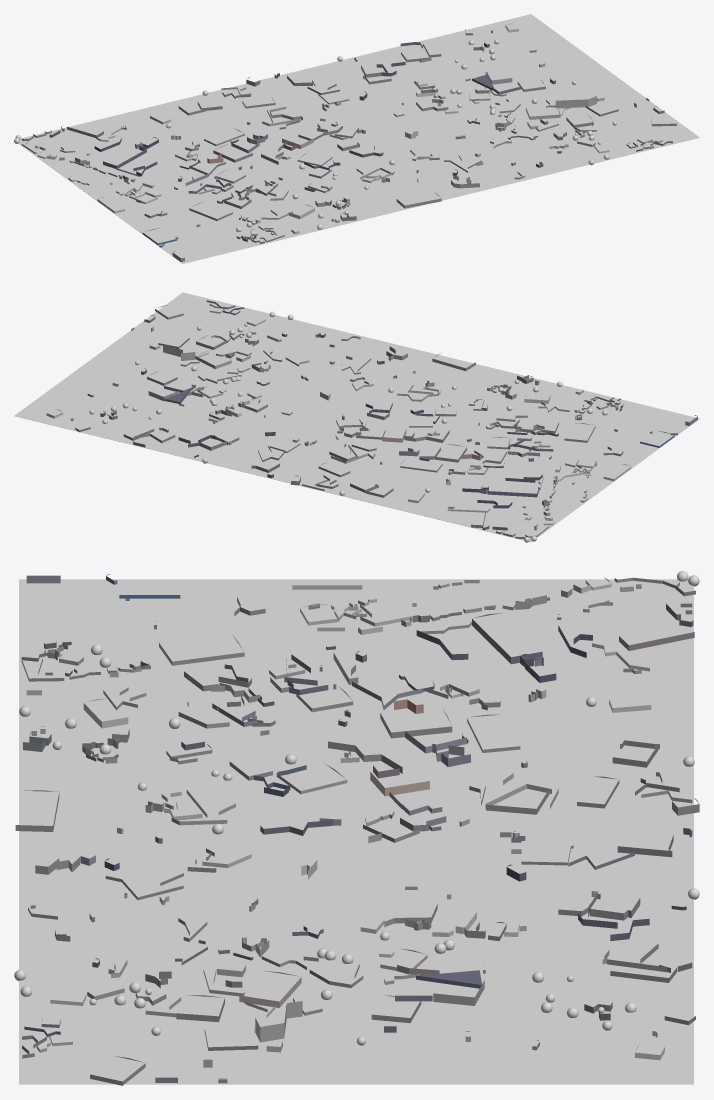
3 renders of one model, top to bottom at view 1: azimuth 30°, elevation 25°; view 2: azimuth 150°, elevation 25°; view 3: azimuth 270°, elevation 25°, orthographic. The views are drawn at different scales.
Parts seen in each view (by area): view 1: Ground_Base; view 2: Ground_Base; view 3: Ground_Base, BLD-132, BLD-078.
Boxes of the visible parts, box(x1,y1,x2,y2) form: Ground_Base: box(18, 14, 699, 263); Ground_Base: box(14, 292, 699, 541); Ground_Base: box(19, 579, 693, 1084); BLD-132: box(255, 1001, 302, 1042); BLD-078: box(416, 970, 481, 988).
Bounding box in the file's own units: 1237 × 21.43 × 704.
